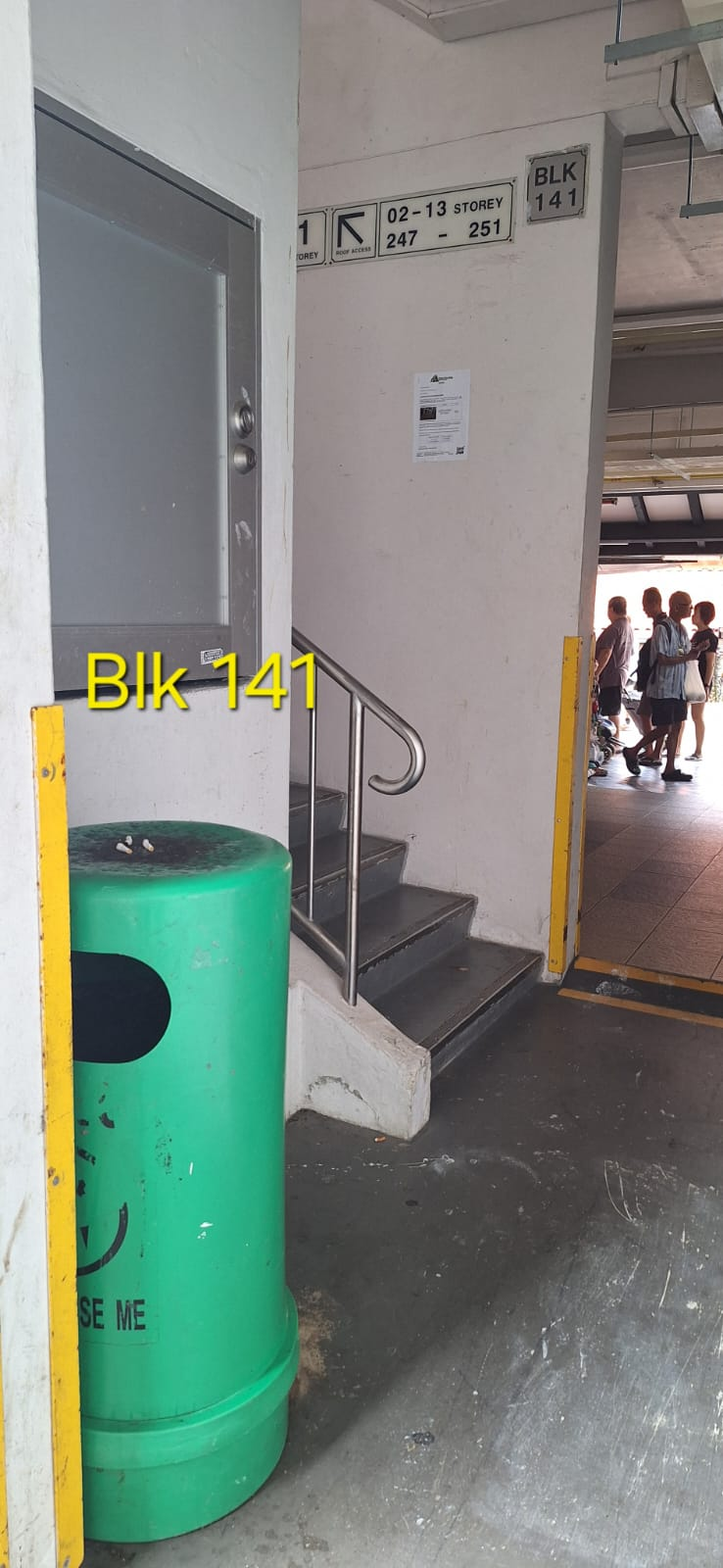bin_empty: (70, 819, 298, 1542)
